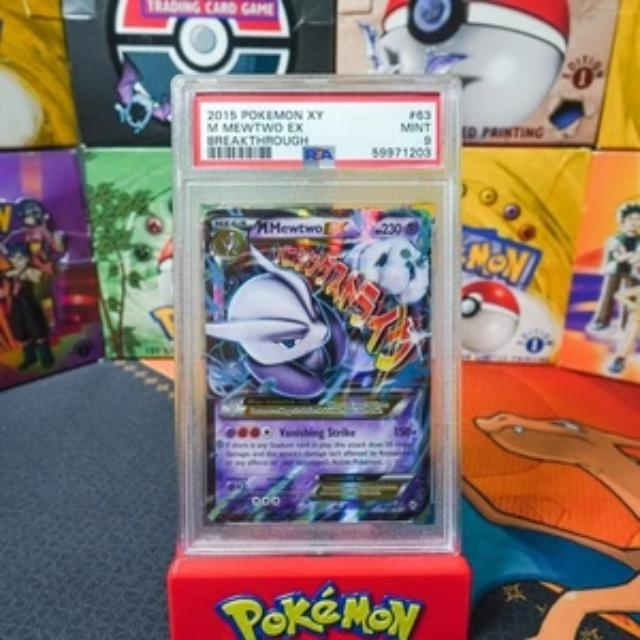Card: (199, 204, 437, 528)
Name: (252, 217, 353, 240)
